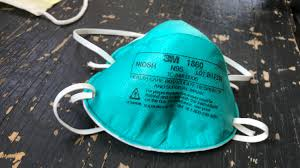mask: (86, 24, 242, 142)
